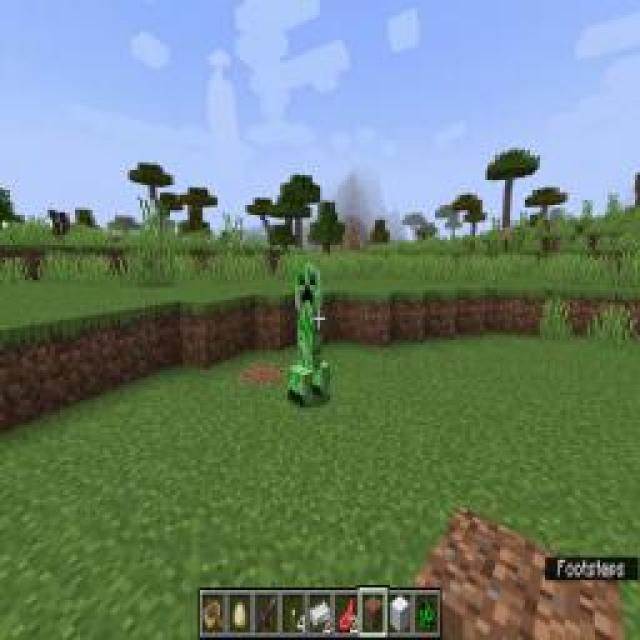Creeper: (285, 259, 333, 411)
